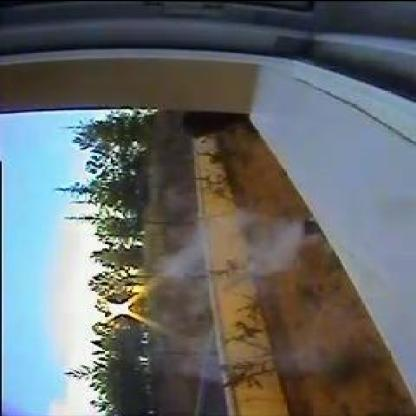-: (244, 218, 302, 288)
